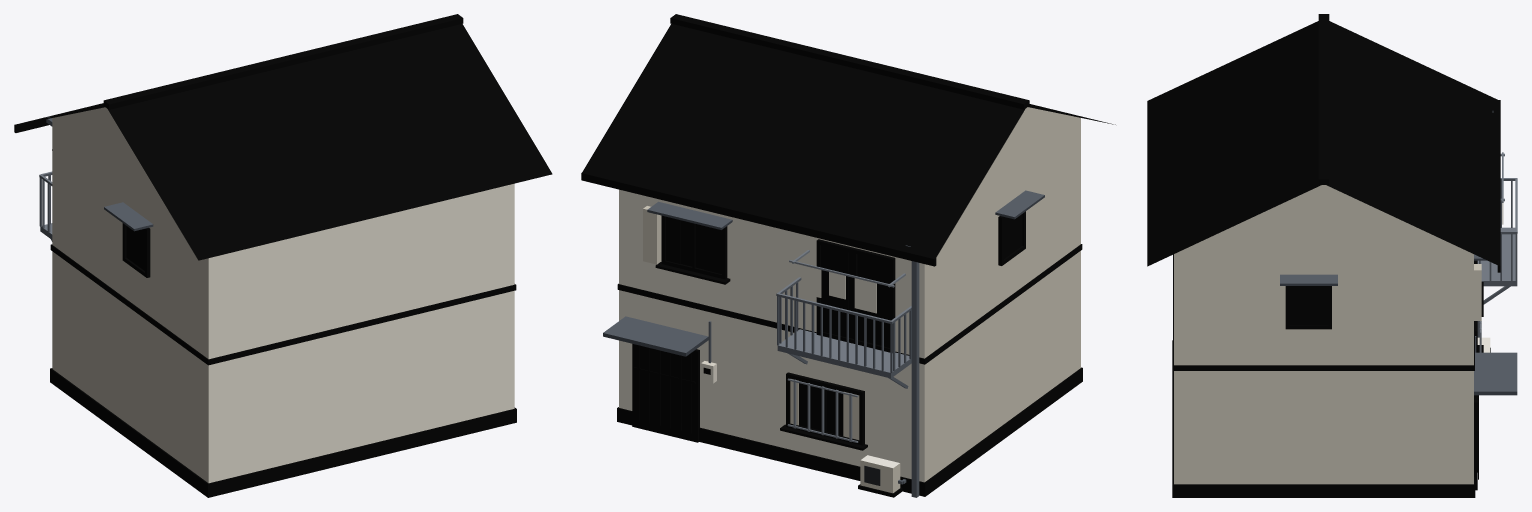
Rendered from House_A2.fbx.
The picture shows the model from 3 angles, left to right: view 1: azimuth 30°, elevation 25°; view 2: azimuth 150°, elevation 25°; view 3: azimuth 270°, elevation 25°; orthographic projection. The views are drawn at different scales.
Visible parts, largest first — view 1: Body.011, Roof.006, Footing.004, Belt.004, Gables.006, Hoods.012, Balcony.002, Glass.015, WinFrame.015; view 2: Body.011, Roof.006, Balcony.002, Glass.015, WinFrame.015, Footing.004, Gables.006, Pipes.015, Belt.004, Hood.004, Curtain2.012, Door.004 (+10 smaller); view 3: Body.011, Roof.006, Gables.006, Footing.004, Balcony.002, Belt.004, Hood.004, Glass.015, WinFrame.015, Hoods.012, Shutterbox.004.
Part boxes in pixels (x1,y1,x2,y2): Body.011: [52, 118, 514, 483]; Roof.006: [14, 14, 552, 260]; Footing.004: [50, 368, 516, 497]; Belt.004: [50, 244, 516, 365]; Gables.006: [53, 107, 158, 194]; Hoods.012: [104, 202, 153, 231]; Balcony.002: [39, 171, 52, 241]; Glass.015: [126, 226, 144, 270]; WinFrame.015: [122, 223, 150, 277]; Body.011: [619, 117, 1080, 482]; Roof.006: [581, 14, 1115, 266]; Balcony.002: [776, 277, 911, 388]; Glass.015: [636, 214, 1022, 425]; WinFrame.015: [655, 211, 1025, 450]; Footing.004: [617, 367, 1082, 496]; Gables.006: [974, 107, 1079, 194]; Pipes.015: [708, 245, 919, 497]; Belt.004: [617, 244, 1082, 364]; Hood.004: [603, 316, 708, 356]; Curtain2.012: [821, 245, 889, 347]; Door.004: [632, 344, 699, 442]; Body.011: [1174, 243, 1473, 484]; Roof.006: [1147, 14, 1500, 272]; Gables.006: [1198, 185, 1449, 242]; Footing.004: [1172, 340, 1475, 497]; Balcony.002: [1477, 178, 1517, 304]; Belt.004: [1173, 254, 1474, 370]; Hood.004: [1474, 352, 1517, 395]; Glass.015: [1289, 286, 1478, 472]; WinFrame.015: [1285, 260, 1483, 352]; Hoods.012: [1280, 254, 1486, 285]; Shutterbox.004: [1474, 264, 1481, 320].
Size of the model in its own units: 8.1 by 7.5 by 7.66.
